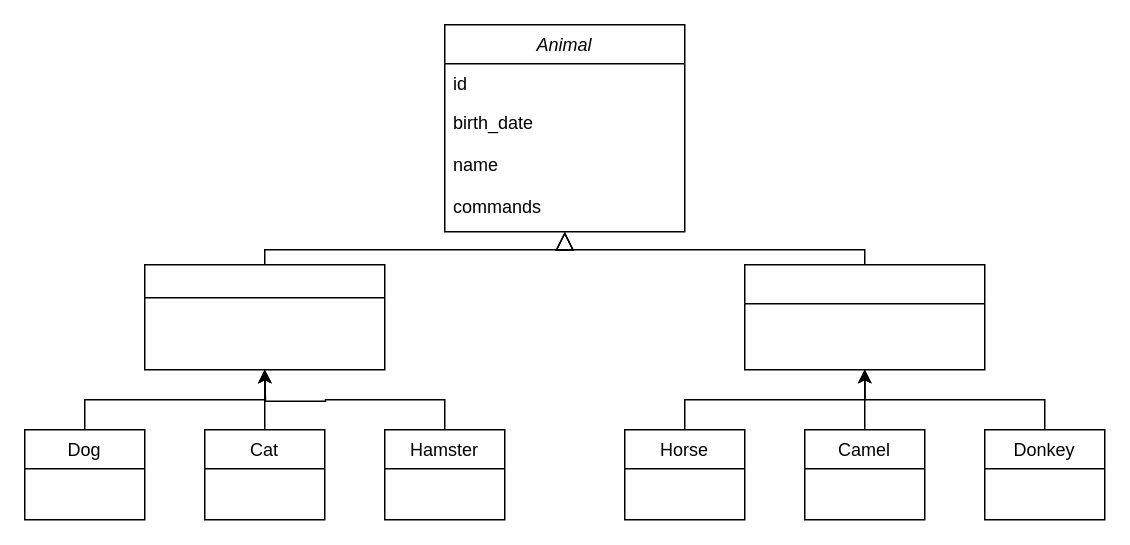
Image size: 1130x545. Some labels were removed from this diagram. The shapes that lost their labels are listed below. From the top down, each one's centre as x and y in pixels, then its label:
the point at 264,316: Pet
the point at 864,316: PackAnimal
